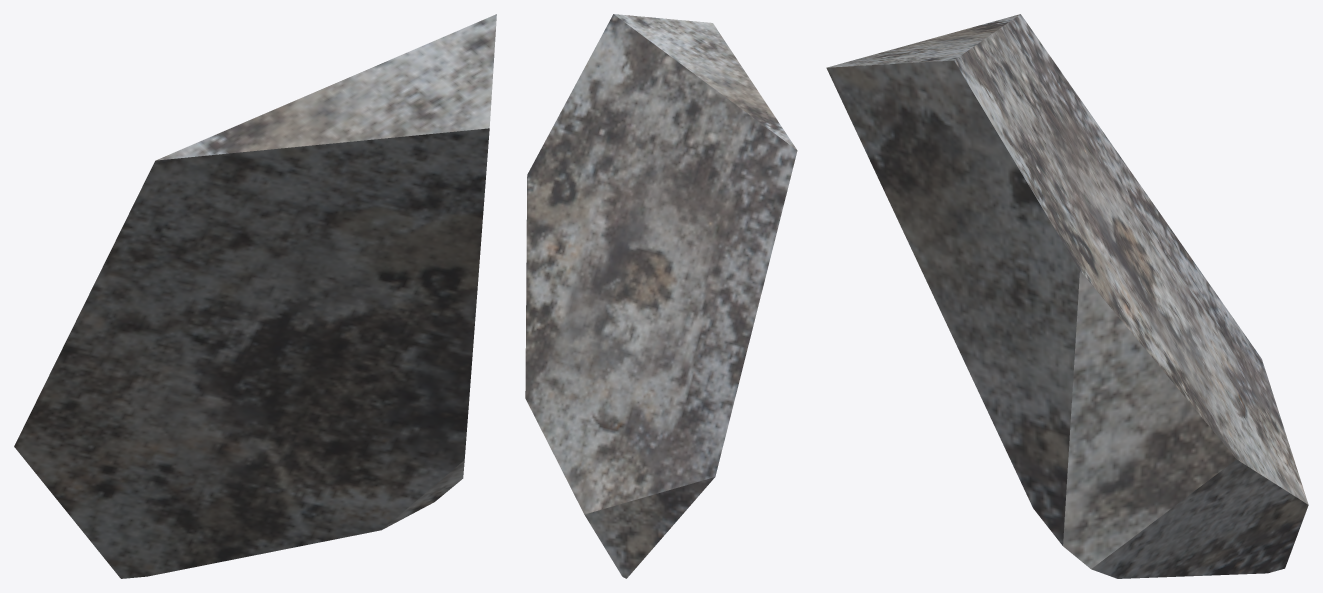
The model's file is Asteroid_Medium_001_02_006_03_009.fbx.
3 views of the same model, side by side, from view 1: azimuth 30°, elevation 25°; view 2: azimuth 150°, elevation 25°; view 3: azimuth 270°, elevation 25° (orthographic). The views are drawn at different scales.
Parts seen in each view (by area): view 1: Asteroid_Medium_001_02_006_03_009; view 2: Asteroid_Medium_001_02_006_03_009; view 3: Asteroid_Medium_001_02_006_03_009.
Part boxes in pixels (left/top/right/bottom): Asteroid_Medium_001_02_006_03_009: left=14, top=14, right=496, bottom=578; Asteroid_Medium_001_02_006_03_009: left=525, top=14, right=797, bottom=578; Asteroid_Medium_001_02_006_03_009: left=826, top=14, right=1308, bottom=578.
Size of the model in its own units: 5.8 by 9.6 by 7.03.
